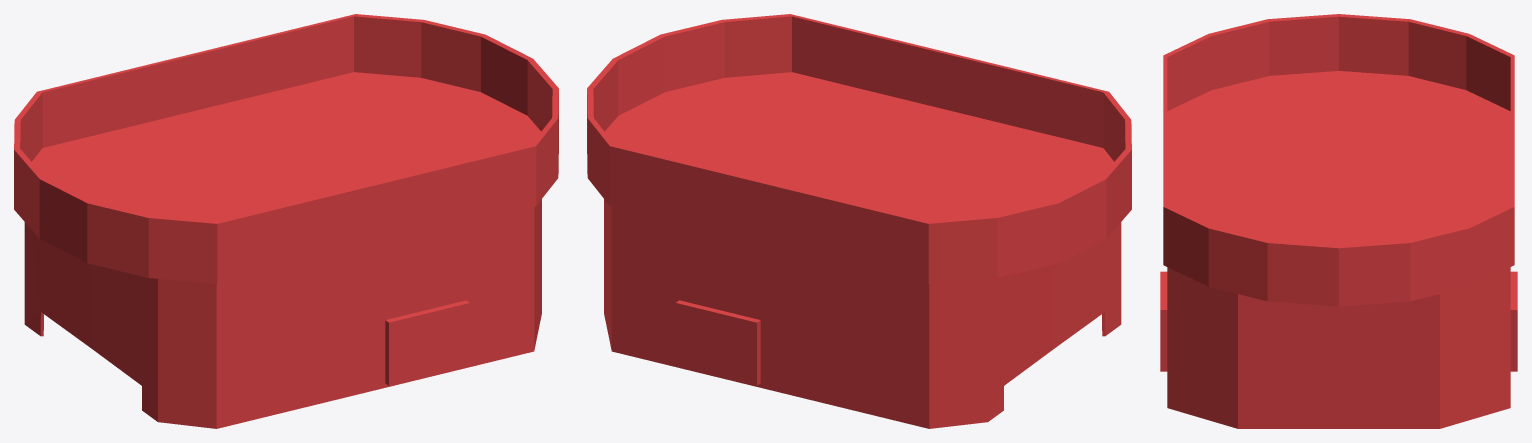
File: chassis.dae
3 views of the same model, side by side, from view 1: azimuth 30°, elevation 25°; view 2: azimuth 150°, elevation 25°; view 3: azimuth 270°, elevation 25° (orthographic). The views are drawn at different scales.
Visible parts, largest first — view 1: node0; view 2: node0; view 3: node0.
Part boxes in pixels (x1,y1,x2,y2): node0: (14,14,558,428); node0: (587,14,1131,428); node0: (1160,14,1517,428).
Bounding box in the file's own units: 0.4298 × 0.2771 × 0.1722.
